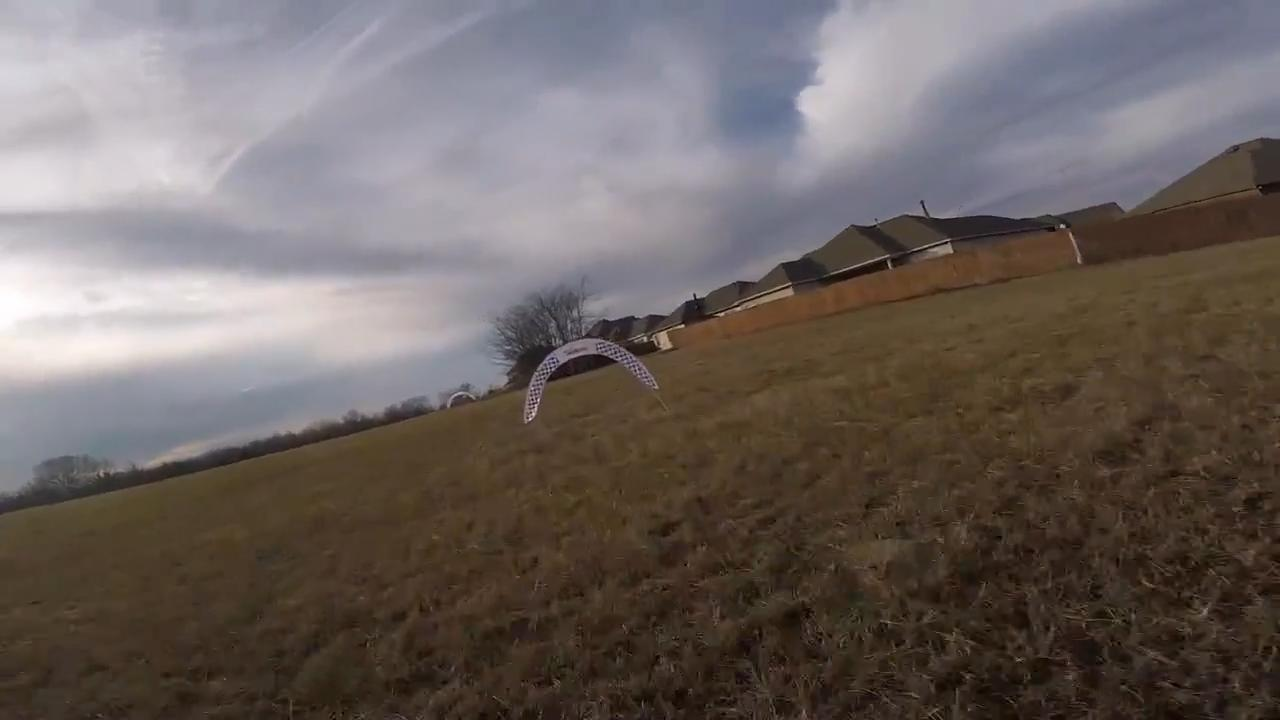gate: (522, 336, 661, 423)
